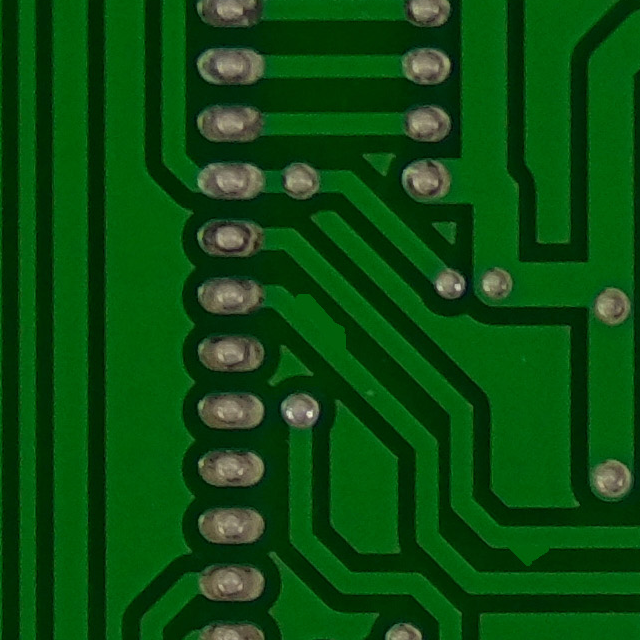spur: (278, 283, 362, 358), (495, 519, 570, 575)
